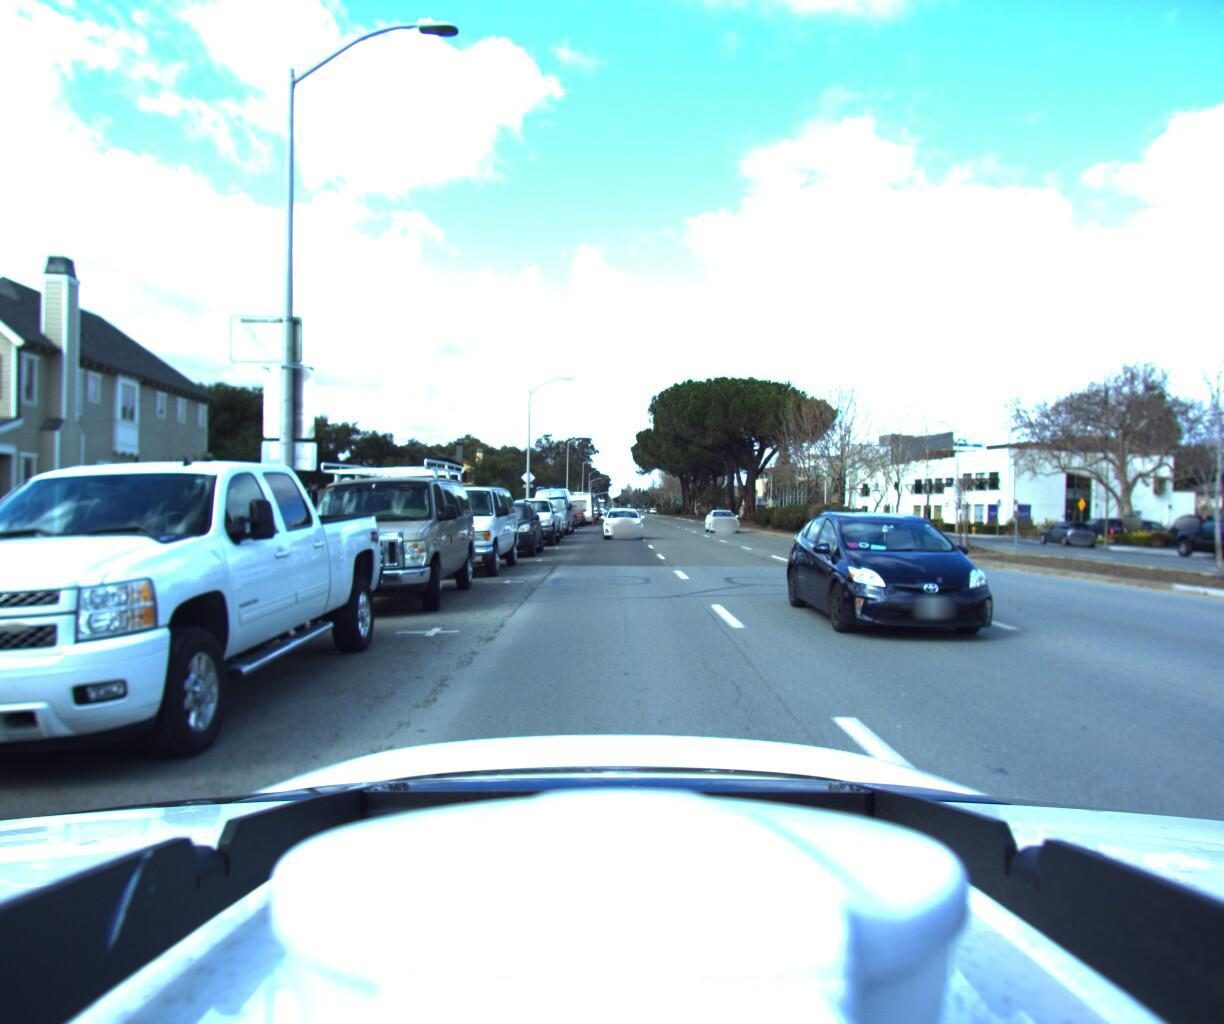car: (802, 503, 1097, 668), (285, 462, 477, 624), (401, 478, 517, 582), (467, 496, 543, 561), (498, 494, 562, 546), (519, 480, 572, 534), (1167, 515, 1224, 561), (1026, 515, 1107, 546), (599, 504, 642, 539), (896, 509, 941, 531), (707, 508, 746, 533), (869, 508, 907, 528), (559, 503, 587, 526)
other_vehicle: (559, 488, 597, 524)
